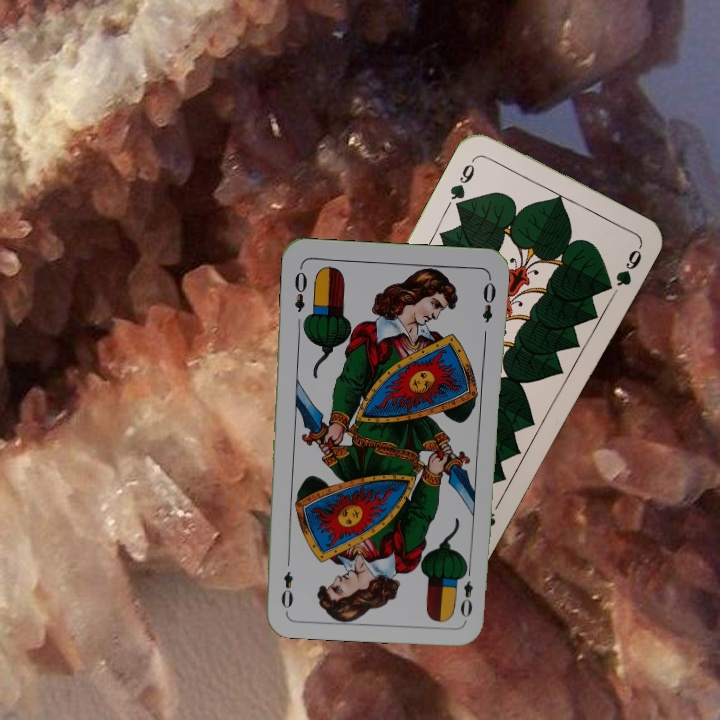EO: (456, 562, 476, 620), (290, 262, 309, 315)
G9: (445, 153, 480, 211)
